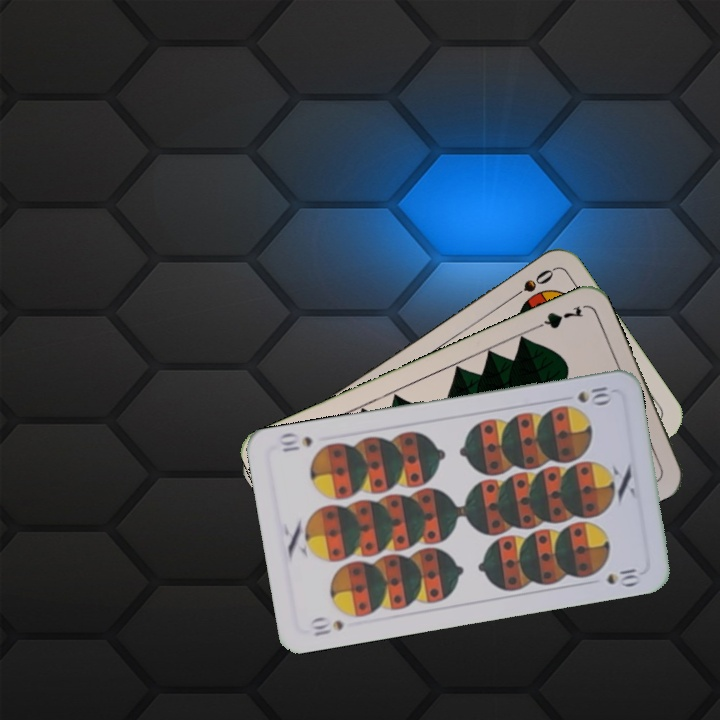G7: (528, 301, 586, 333)
S10: (306, 613, 346, 639), (573, 381, 614, 406)
SO: (504, 265, 556, 304)
